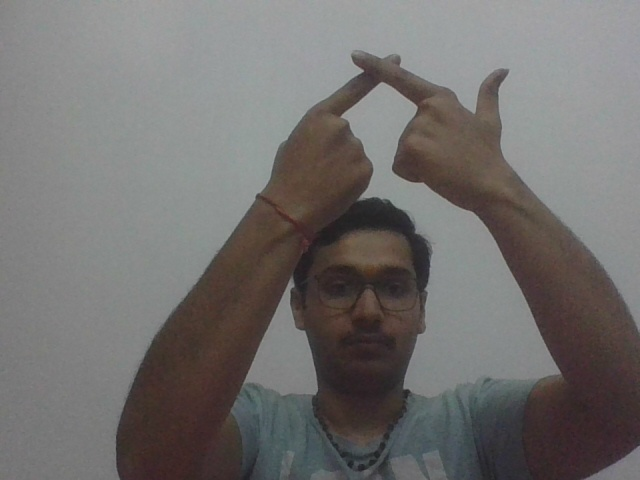J: (285, 47, 517, 188)
